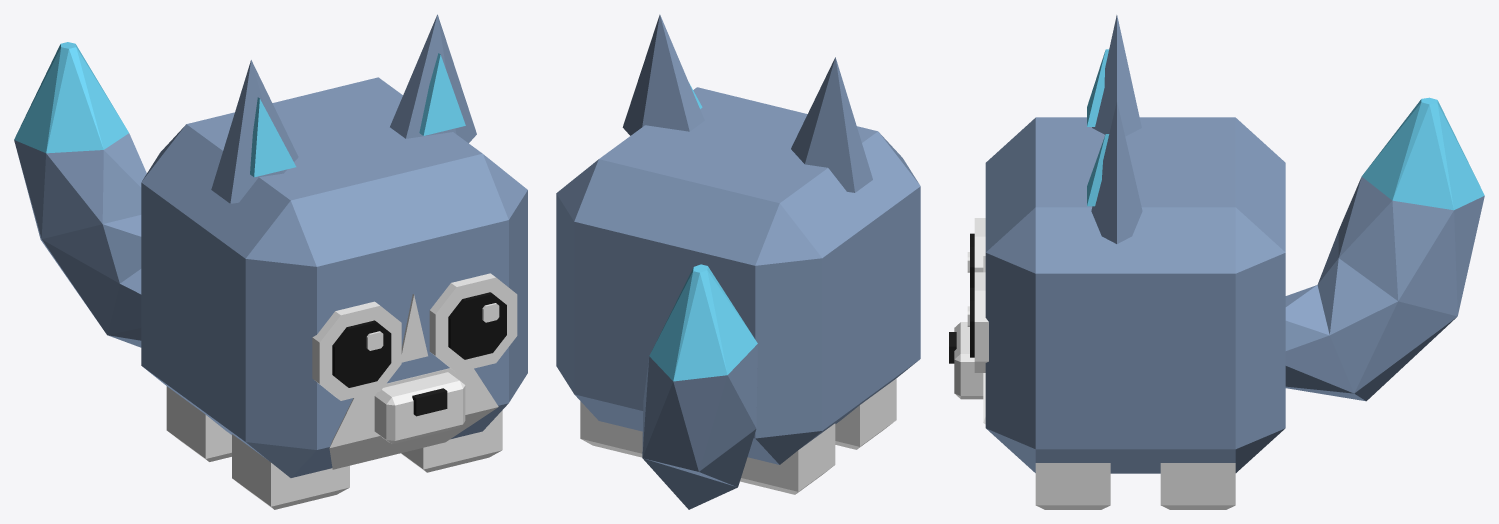
Rendered from ArcticWolf.fbx.
3 views of the same model, side by side, from view 1: azimuth 30°, elevation 25°; view 2: azimuth 150°, elevation 25°; view 3: azimuth 270°, elevation 25° (orthographic). The views are drawn at different scales.
Visible parts, largest first — view 1: ArcticWolf, ArcticWolf_White, ArcticWolf_Tail, ArcticWolf_Eyes, ArcticWolf_Ears, ArcticWolf_TailTip, ArcticWolf_Pupils, ArcticWolf_Glow, ArcticWolf_Nose; view 2: ArcticWolf, ArcticWolf_Tail, ArcticWolf_Ears, ArcticWolf_TailTip, ArcticWolf_White; view 3: ArcticWolf, ArcticWolf_Tail, ArcticWolf_White, ArcticWolf_TailTip, ArcticWolf_Ears, ArcticWolf_Eyes, ArcticWolf_Glow, ArcticWolf_Pupils.
Boxes of the visible parts, x1,y1,x2,y2 form: ArcticWolf: (141,77,527,477); ArcticWolf_White: (166,294,502,509); ArcticWolf_Tail: (14,133,146,347); ArcticWolf_Eyes: (312,273,517,400); ArcticWolf_Ears: (211,14,476,203); ArcticWolf_TailTip: (14,42,128,153); ArcticWolf_Pupils: (332,292,506,387); ArcticWolf_Glow: (250,53,465,177); ArcticWolf_Nose: (412,388,447,416); ArcticWolf: (556,87,920,464); ArcticWolf_Tail: (642,344,757,509); ArcticWolf_Ears: (622,14,872,192); ArcticWolf_TailTip: (649,264,757,381); ArcticWolf_White: (580,378,896,494); ArcticWolf: (985,117,1285,473); ArcticWolf_Tail: (1285,176,1484,401); ArcticWolf_White: (954,256,1235,509); ArcticWolf_TailTip: (1362,97,1484,210); ArcticWolf_Ears: (1091,15,1142,243); ArcticWolf_Eyes: (967,218,988,372); ArcticWolf_Glow: (1087,49,1109,206); ArcticWolf_Pupils: (970,233,974,357).
Bounding box in the file's own units: 2.11 × 2.84 × 3.43.
